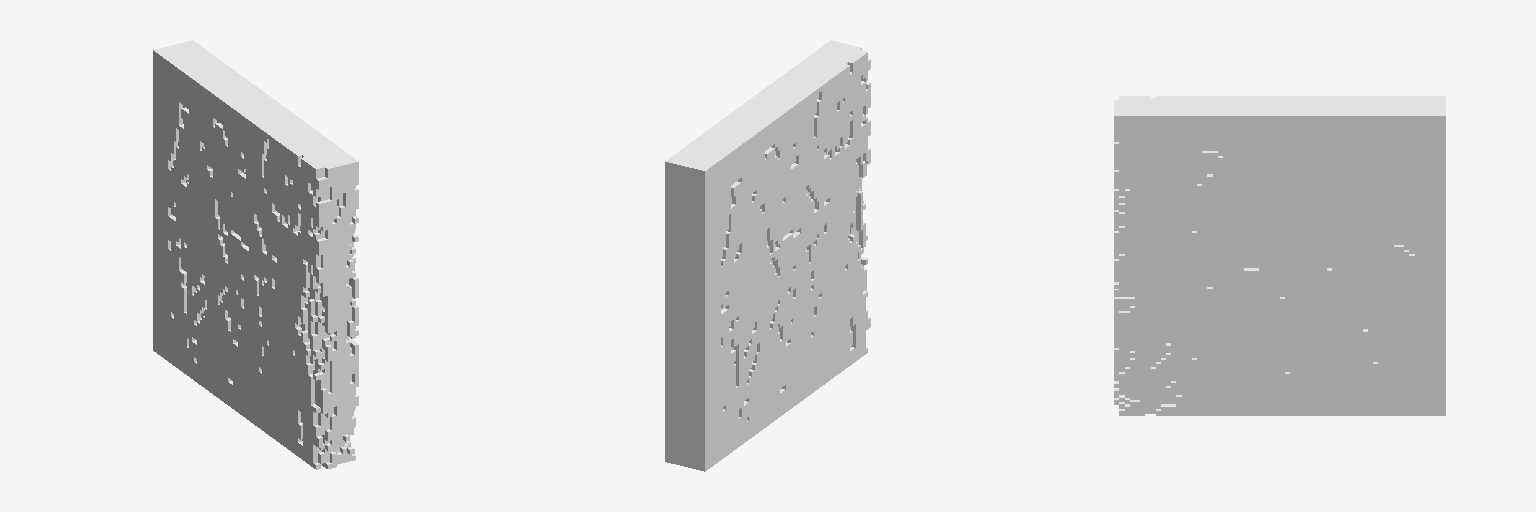
The model's file is Tutorialmap_V2_unfinished-11.obj.
3 views of the same model, side by side, from view 1: azimuth 30°, elevation 25°; view 2: azimuth 150°, elevation 25°; view 3: azimuth 270°, elevation 25° (orthographic).
Visible parts, largest first — view 1: object 1; view 2: object 1; view 3: object 1.
Part boxes in pixels (x1,y1,x2,y2): object 1: (153, 40, 358, 469); object 1: (665, 40, 870, 471); object 1: (1114, 96, 1445, 415).
Size of the model in its own units: 0.9 by 6.4 by 6.4.